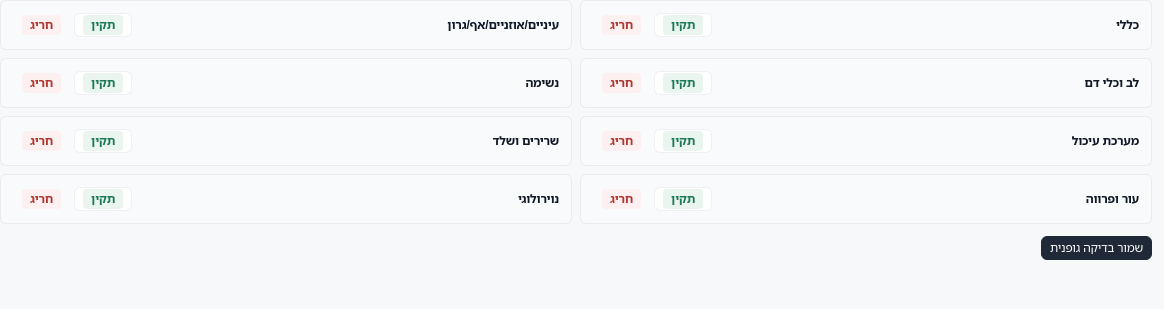
Scenario: ExamForm › shows a clear error and does not refresh when saving fails
This screenshot has width=1164, height=309.
Click the button "שמור בדיקה גופנית": click(1096, 248) [1041, 236, 1152, 260]
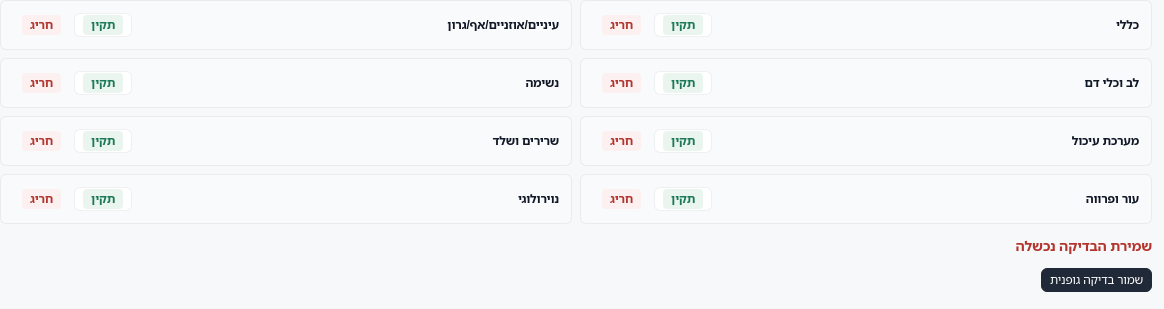
Expected: the text "שמירת הבדיקה נכשלה" is shown, [1015, 236, 1152, 255]
